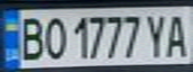1: (69, 12, 90, 60)
7: (103, 11, 127, 60), (121, 11, 145, 58), (84, 12, 106, 60)
A: (163, 10, 193, 58)
B: (12, 14, 48, 62)
O: (39, 14, 69, 61)
Y: (142, 11, 172, 58)
